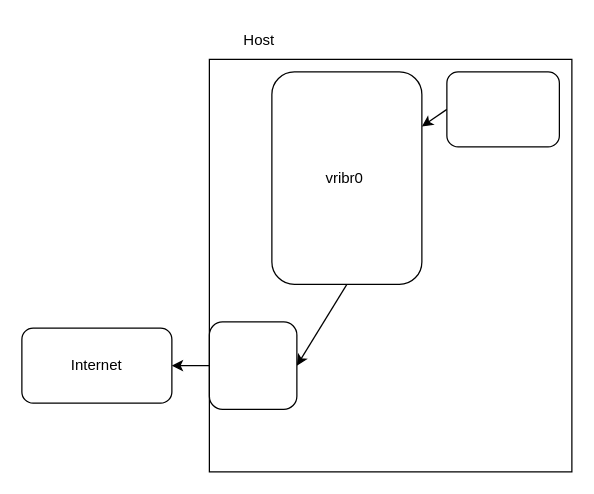
The diagram is 594 pixels wide and 494 high, and some of its shapes have lost their labels. Here are the shapes that lost their labels. From the top down, the box of each, then its label:
(446, 71, 559, 147): VM1
(208, 321, 297, 409): Eno1
